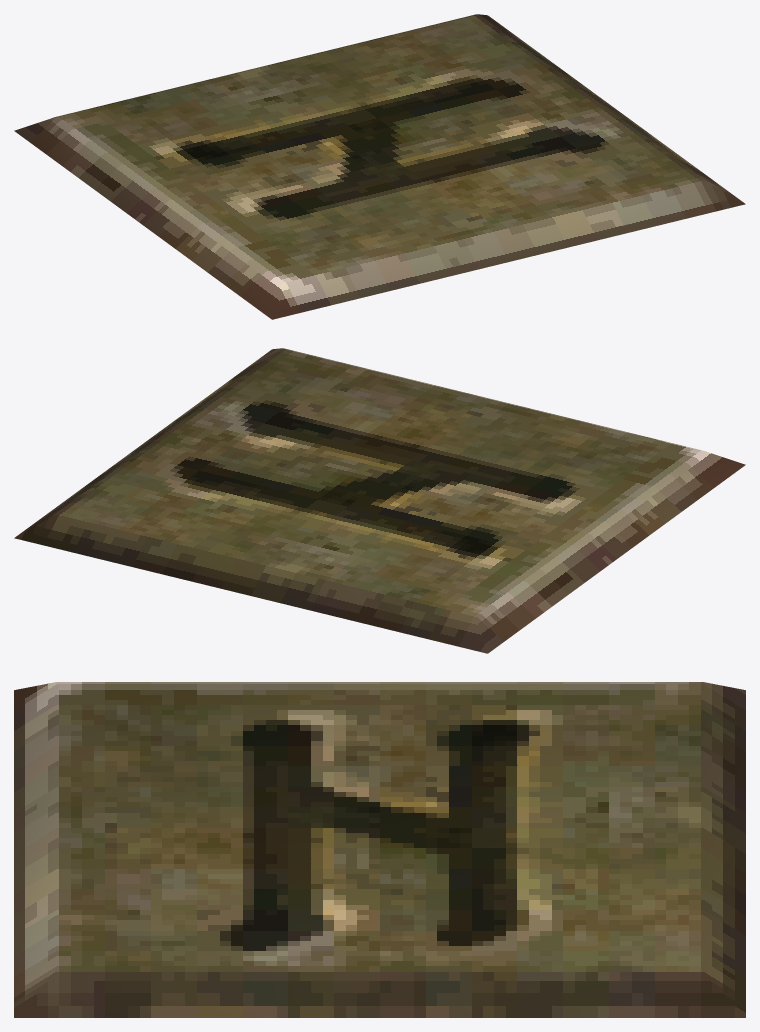
Rendered from EREBOR_RUNE_PZL_EREBOR_PZL_TILE_STATIC17.fbx.
The picture shows the model from 3 angles, top to bottom: view 1: azimuth 30°, elevation 25°; view 2: azimuth 150°, elevation 25°; view 3: azimuth 270°, elevation 25°; orthographic projection. The views are drawn at different scales.
Parts seen in each view (by area): view 1: EREBOR_RUNE_PZL_EREBOR_PZL_TILE_STATIC17; view 2: EREBOR_RUNE_PZL_EREBOR_PZL_TILE_STATIC17; view 3: EREBOR_RUNE_PZL_EREBOR_PZL_TILE_STATIC17.
Part boxes in pixels (<box>): EREBOR_RUNE_PZL_EREBOR_PZL_TILE_STATIC17: <box>14,14,745,319</box>; EREBOR_RUNE_PZL_EREBOR_PZL_TILE_STATIC17: <box>14,348,745,653</box>; EREBOR_RUNE_PZL_EREBOR_PZL_TILE_STATIC17: <box>14,682,745,1017</box>.
Bounding box in the file's own units: 9945 × 370 × 9386.
1 material, 1 textured.
